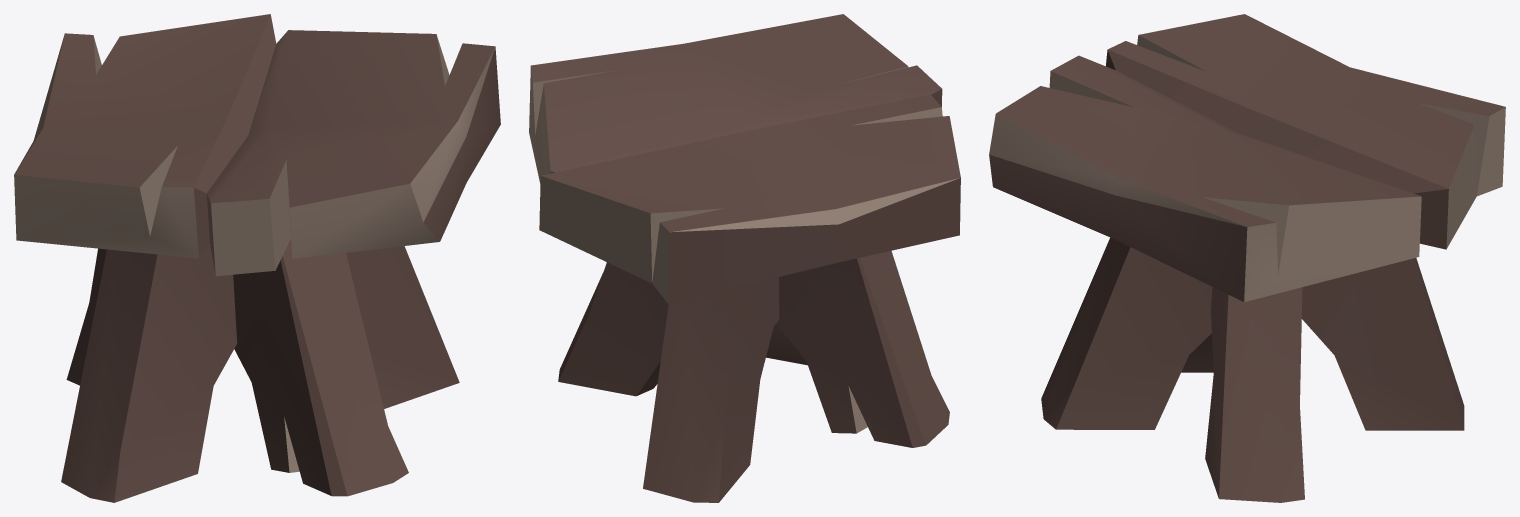
File: stool.glb
3 renders of one model, left to right at view 1: azimuth 30°, elevation 25°; view 2: azimuth 150°, elevation 25°; view 3: azimuth 270°, elevation 25°, orthographic. The views are drawn at different scales.
Visible parts, largest first — view 1: stool; view 2: stool; view 3: stool.
Boxes of the visible parts, x1,y1,x2,y2 form: stool: [14, 14, 500, 502]; stool: [529, 14, 960, 502]; stool: [989, 14, 1505, 502].
Bounding box in the file's own units: 4.13 × 2.83 × 4.02.
1 material, 1 textured.
